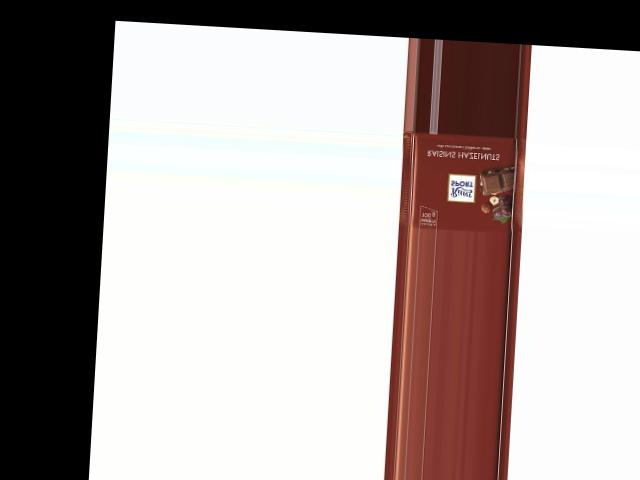chocolate: (398, 130, 529, 234)
